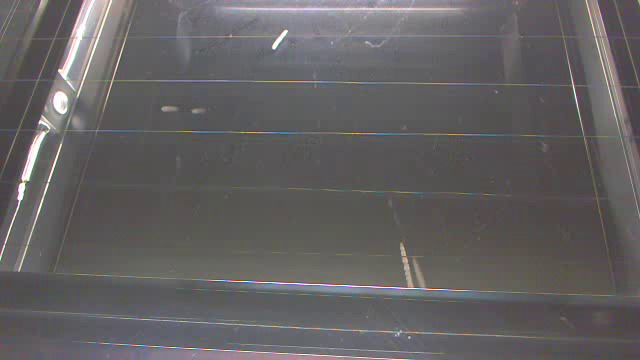alpha: (397, 240, 415, 296), (159, 104, 212, 117), (269, 27, 289, 53), (414, 258, 426, 295)
